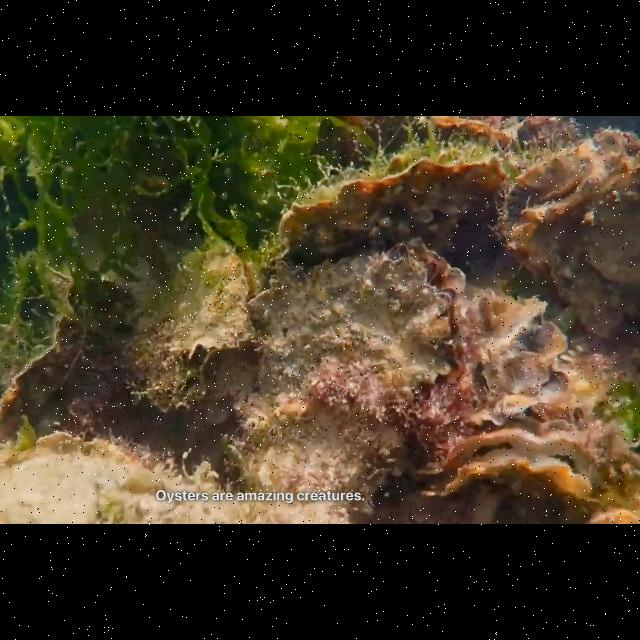Oyster-Closed: (279, 157, 511, 273), (0, 316, 136, 448), (104, 477, 350, 525)
Oyster-Open: (245, 239, 470, 515), (498, 130, 640, 342), (1, 431, 176, 525), (463, 288, 569, 426), (412, 428, 604, 504), (175, 255, 261, 371), (124, 299, 208, 413), (430, 116, 514, 156)
